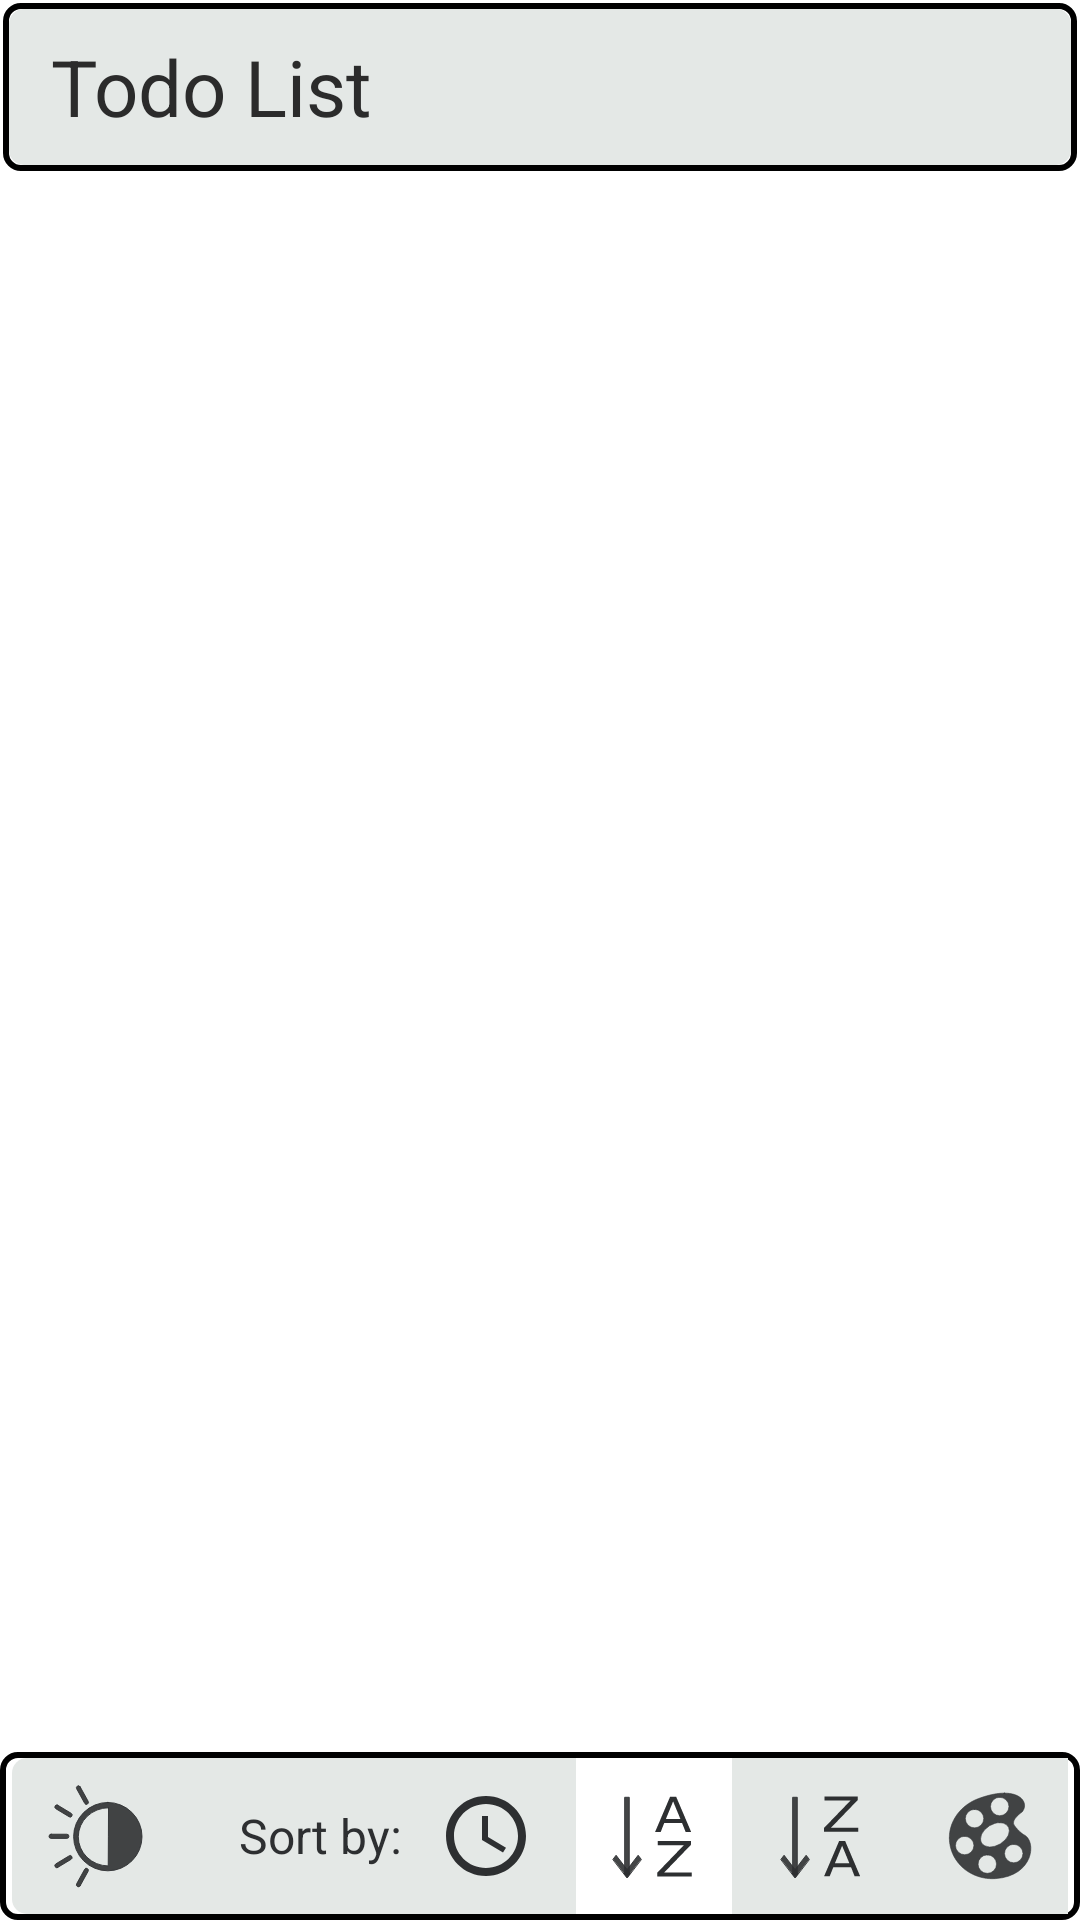

Point at icon controls on the screen. Image size 1080px×1920px, points as point (x, y).
asc: point (654, 1836)
created: point (486, 1836)
day night: point (93, 1836)
dec: point (820, 1837)
